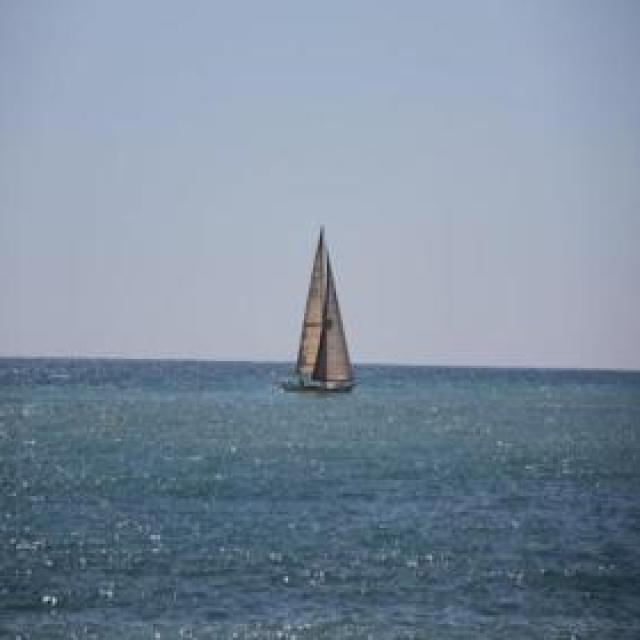sailboat: (280, 221, 365, 392)
